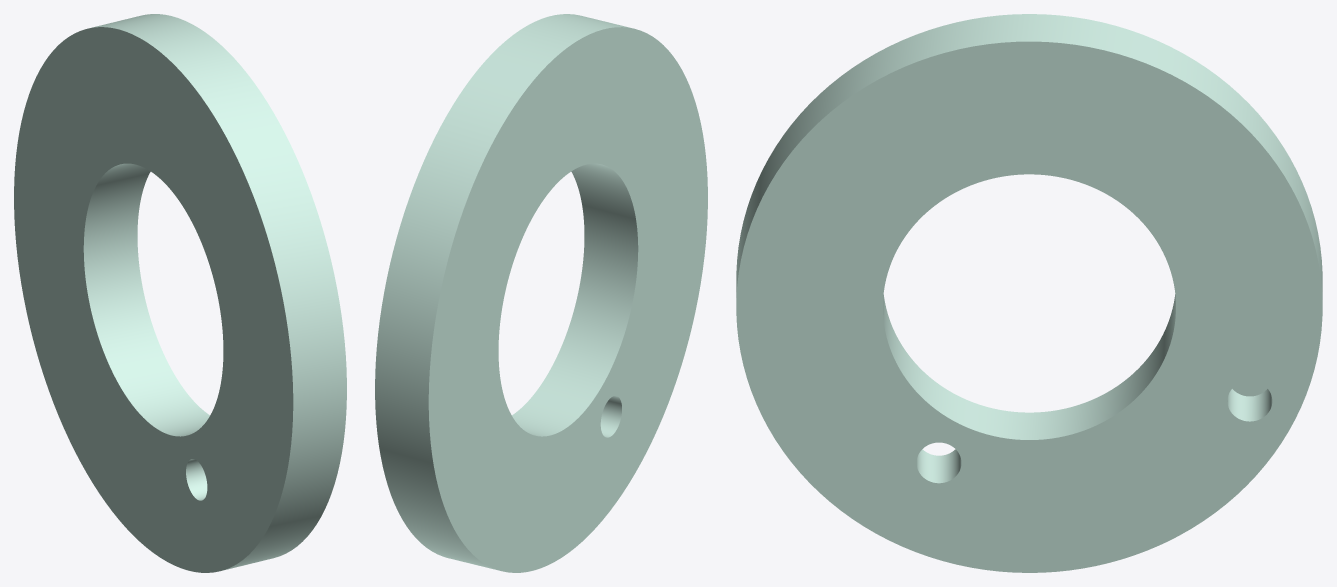
The picture shows the model from 3 angles, left to right: view 1: azimuth 30°, elevation 25°; view 2: azimuth 150°, elevation 25°; view 3: azimuth 270°, elevation 25°; orthographic projection. The views are drawn at different scales.
Visible parts, largest first — view 1: Renderer Node; view 2: Renderer Node; view 3: Renderer Node.
Boxes of the visible parts, <box> form: Renderer Node: <box>14,14,346,572</box>; Renderer Node: <box>375,14,707,572</box>; Renderer Node: <box>736,14,1322,572</box>.
Size of the model in its own units: 0.1719 by 1.55 by 1.55.
